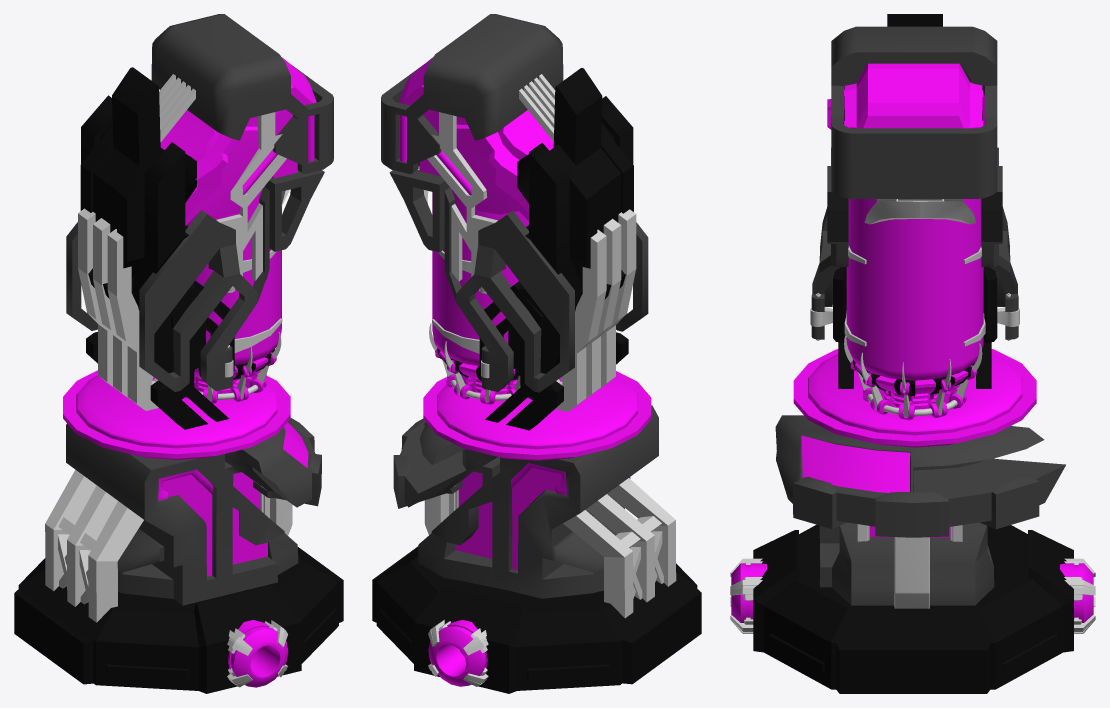
The model's file is Generator_low.fbx.
3 renders of one model, left to right at view 1: azimuth 30°, elevation 25°; view 2: azimuth 150°, elevation 25°; view 3: azimuth 270°, elevation 25°, orthographic. The views are drawn at different scales.
Visible parts, largest first — view 1: Base_low, Bottom_low, Top_low, Support_02_low, Back_low, Table_low, Back_Bar_Bottom_low, Back_Bar_low, Top_Interior_low, Glass_low, Peak_low, Support_03_low (+14 smaller); view 2: Base_low, Bottom_low, Top_low, Support_02_low, Back_low, Table_low, Back_Bar_Bottom_low, Back_Bar_low, Top_Interior_low, Glass_low, Support_03_low, Peak_low (+13 smaller); view 3: Base_low, Bottom_low, Glass_low, Top_low, Table_low, Lights_Top_low, Bottom_Holder_low, Screen_low, Support_02_low, Support_01_low, Front_Bar_Mid_low, Support_04_low (+10 smaller).
Part boxes in pixels (box(x1,y1,x2,y2)): Base_low: box(14, 547, 343, 693); Bottom_low: box(66, 420, 315, 605); Top_low: box(151, 14, 333, 173); Support_02_low: box(66, 186, 269, 391); Back_low: box(80, 95, 205, 372); Table_low: box(63, 357, 290, 459); Back_Bar_Bottom_low: box(45, 470, 143, 622); Back_Bar_low: box(78, 208, 158, 410); Top_Interior_low: box(160, 109, 297, 225); Glass_low: box(186, 180, 281, 365); Peak_low: box(112, 67, 160, 164); Support_03_low: box(216, 112, 286, 280); Base_low: box(372, 546, 701, 693); Bottom_low: box(400, 405, 658, 598); Top_low: box(381, 14, 563, 173); Support_02_low: box(444, 187, 648, 392); Back_low: box(508, 96, 633, 373); Table_low: box(423, 351, 651, 460); Back_Bar_Bottom_low: box(563, 478, 676, 618); Back_Bar_low: box(555, 209, 636, 411); Top_Interior_low: box(419, 109, 553, 220); Glass_low: box(432, 148, 528, 365); Support_03_low: box(427, 112, 497, 281); Peak_low: box(553, 68, 602, 165); Base_low: box(753, 524, 1073, 693); Bottom_low: box(775, 415, 1065, 605); Glass_low: box(846, 127, 983, 380); Top_low: box(831, 26, 997, 198); Table_low: box(793, 349, 1036, 447); Lights_Top_low: box(844, 63, 982, 128); Bottom_Holder_low: box(793, 476, 1039, 537); Screen_low: box(801, 435, 910, 492); Support_02_low: box(811, 147, 1018, 339); Support_01_low: box(833, 267, 997, 388); Front_Bar_Mid_low: box(894, 537, 929, 608); Support_04_low: box(827, 166, 1002, 243).
Size of the model in its own units: 1091 by 2305 by 1245.
